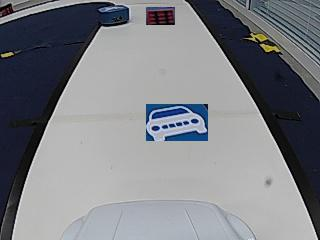prop: (98, 6, 129, 27)
